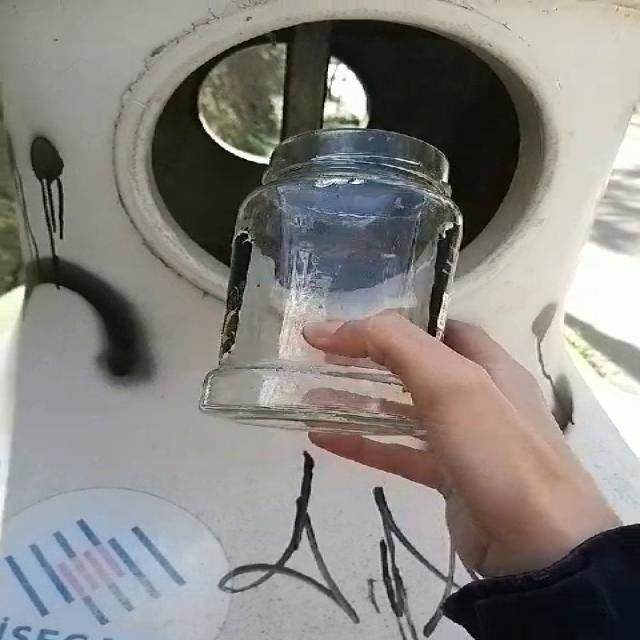Glass: (200, 129, 464, 434)
